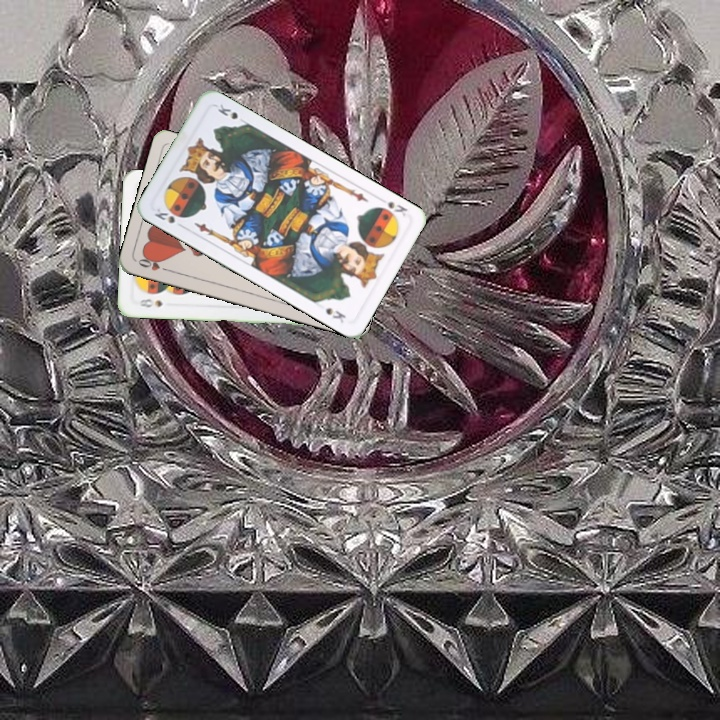HO: (134, 252, 173, 274)
S8: (134, 295, 165, 310)
SK: (150, 204, 185, 226), (384, 197, 410, 219)
